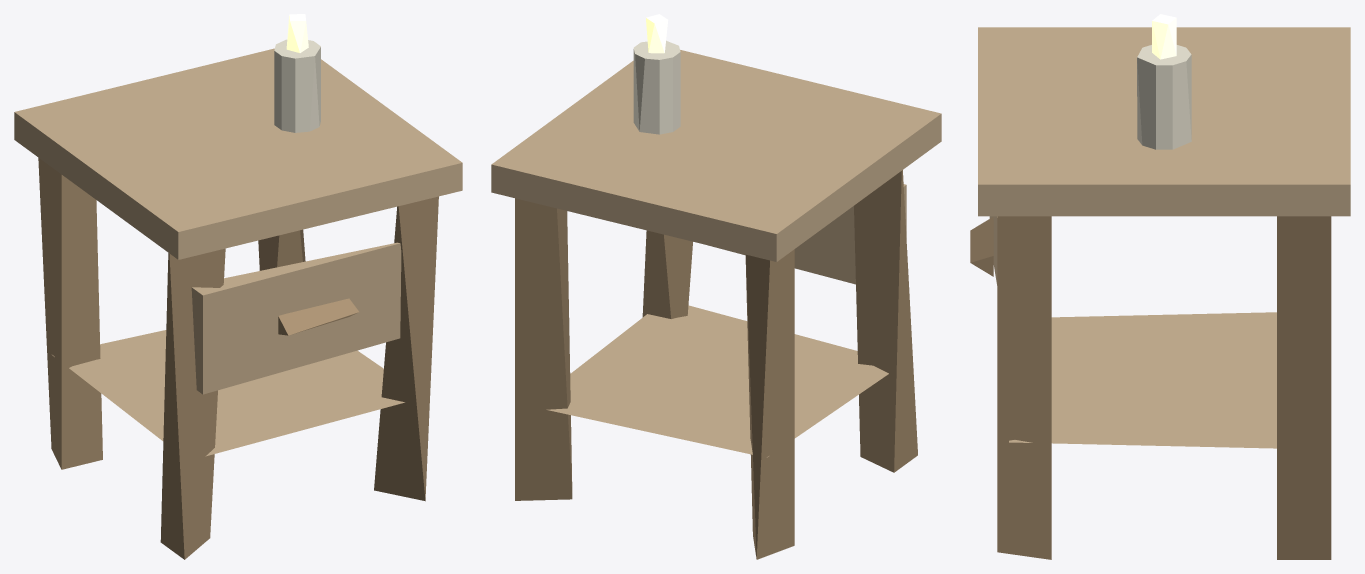
The model's file is 18-Casas_velador.glb.
The picture shows the model from 3 angles, left to right: view 1: azimuth 30°, elevation 25°; view 2: azimuth 150°, elevation 25°; view 3: azimuth 270°, elevation 25°; orthographic projection. The views are drawn at different scales.
Parts seen in each view (by area): view 1: SM_Velador_M_Mueble_Madera_Clara, SM_Velador_M_Mueble_Madera_Oscura, SM_Velador_M_Mueble_Cera_Mueble_Llama, SM_Velador_M_Mueble_Bronce; view 2: SM_Velador_M_Mueble_Madera_Clara, SM_Velador_M_Mueble_Madera_Oscura, SM_Velador_M_Mueble_Cera_Mueble_Llama; view 3: SM_Velador_M_Mueble_Madera_Clara, SM_Velador_M_Mueble_Madera_Oscura, SM_Velador_M_Mueble_Cera_Mueble_Llama, SM_Velador_M_Mueble_Bronce.
Boxes of the visible parts, box(x1,y1,x2,y2) form: SM_Velador_M_Mueble_Madera_Clara: box(14, 48, 462, 456); SM_Velador_M_Mueble_Madera_Oscura: box(38, 157, 438, 559); SM_Velador_M_Mueble_Cera_Mueble_Llama: box(274, 14, 320, 132); SM_Velador_M_Mueble_Bronce: box(278, 298, 358, 335); SM_Velador_M_Mueble_Madera_Clara: box(491, 50, 941, 457); SM_Velador_M_Mueble_Madera_Oscura: box(515, 170, 917, 559); SM_Velador_M_Mueble_Cera_Mueble_Llama: box(633, 14, 680, 134); SM_Velador_M_Mueble_Madera_Clara: box(978, 27, 1350, 448); SM_Velador_M_Mueble_Madera_Oscura: box(997, 216, 1331, 559); SM_Velador_M_Mueble_Cera_Mueble_Llama: box(1137, 14, 1191, 149); SM_Velador_M_Mueble_Bronce: box(970, 217, 993, 276).
Bounding box in the file's own units: 0.48 × 0.715 × 0.49.
